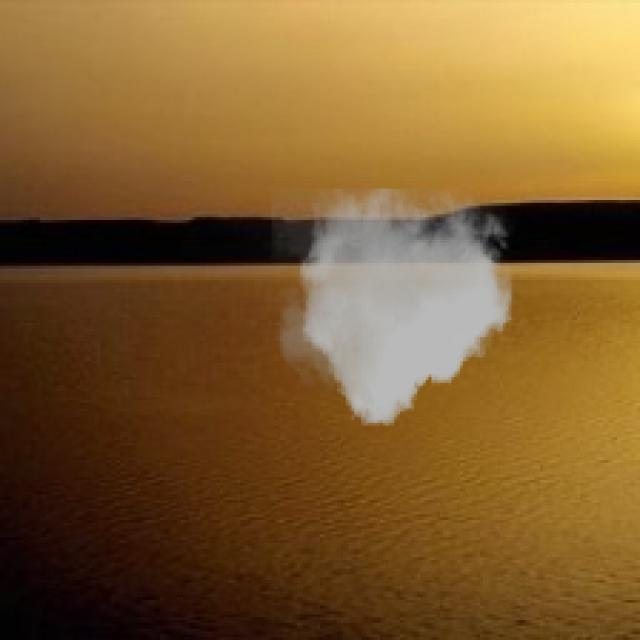smoke: (272, 188, 517, 426)
